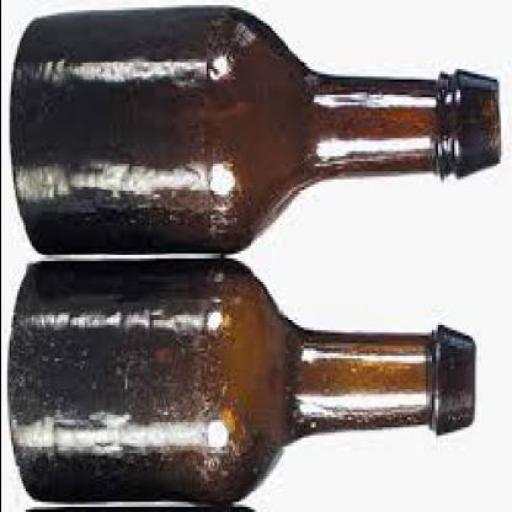glass: (10, 10, 502, 258), (10, 261, 476, 509)
